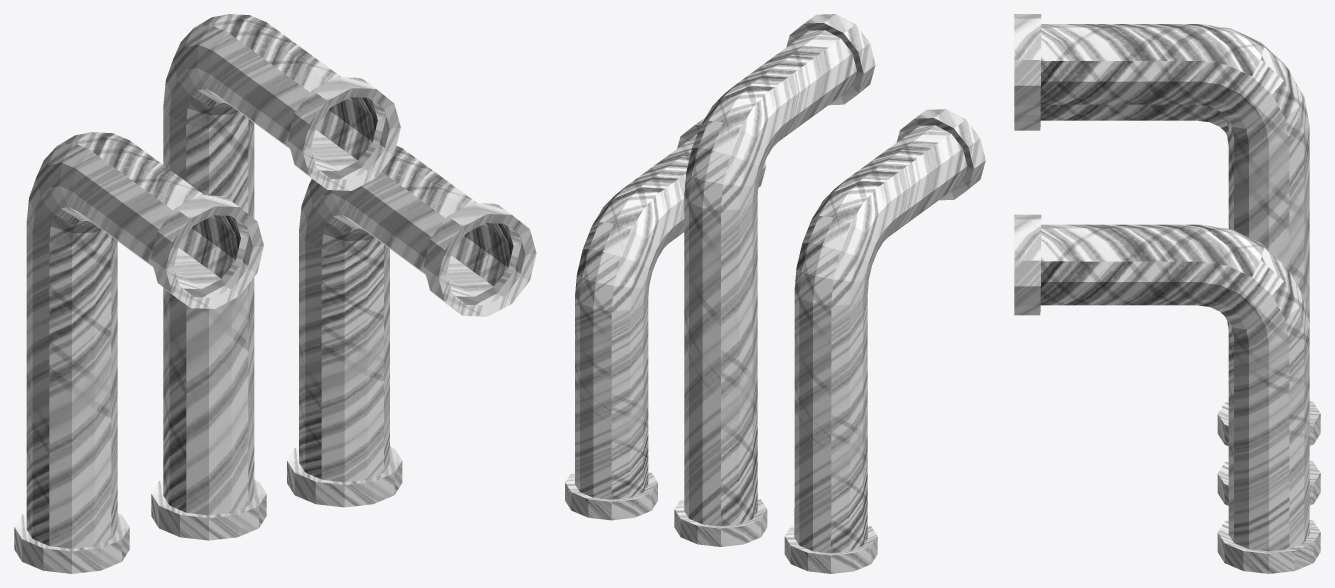
File: Pipes.fbx
The picture shows the model from 3 angles, left to right: view 1: azimuth 30°, elevation 25°; view 2: azimuth 150°, elevation 25°; view 3: azimuth 270°, elevation 25°; orthographic projection. The views are drawn at different scales.
Visible parts, largest first — view 1: Cube.003, Cube.001, Cube.002; view 2: Cube.001, Cube.003, Cube.002; view 3: Cube.002, Cube.001, Cube.003.
Part boxes in pixels (x1,y1,x2,y2): Cube.003: (14,132,263,573); Cube.001: (151,14,400,540); Cube.002: (287,146,536,507); Cube.001: (674,14,875,546); Cube.003: (784,109,985,573); Cube.002: (565,117,766,520); Cube.002: (1014,214,1320,573); Cube.001: (1014,14,1320,505); Cube.003: (1014,104,1320,445).
Size of the model in its own units: 472 by 646 by 377.
